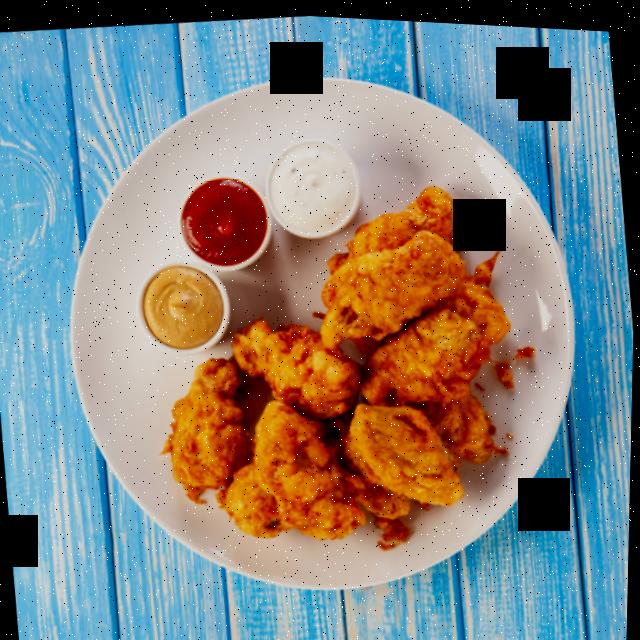Frango: (129, 159, 556, 581)
